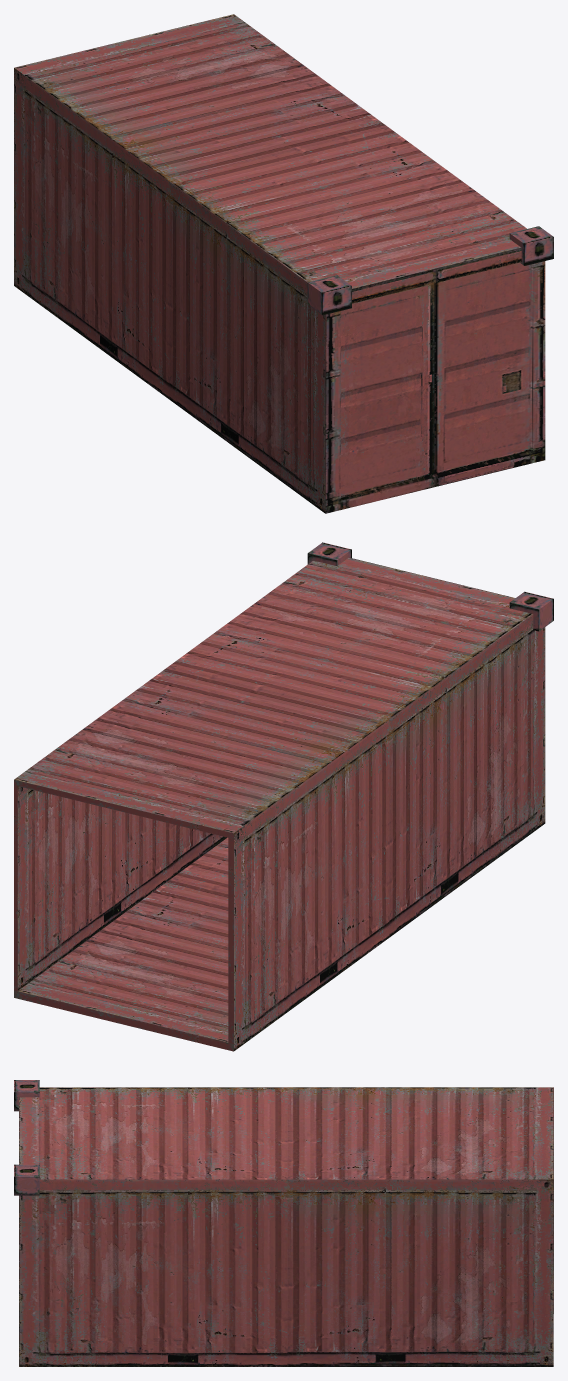
The model's file is Cover_Container12.glb.
3 renders of one model, top to bottom at view 1: azimuth 30°, elevation 25°; view 2: azimuth 150°, elevation 25°; view 3: azimuth 270°, elevation 25°, orthographic. The views are drawn at different scales.
Visible parts, largest first — view 1: xiutz_container12; view 2: xiutz_container12; view 3: xiutz_container12.
Part boxes in pixels (x1=…): xiutz_container12: x1=14, y1=14, x2=553, y2=513; xiutz_container12: x1=14, y1=542, x2=553, y2=1051; xiutz_container12: x1=14, y1=1080, x2=553, y2=1366.
Bounding box in the file's own units: 4.81 × 4.45 × 11.34.
1 material, 1 textured.
